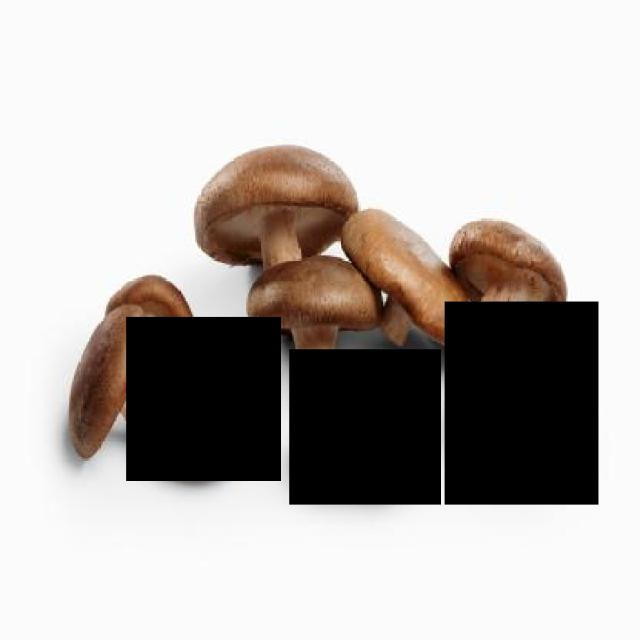Mushroom: (444, 301, 598, 505), (126, 318, 280, 480), (290, 349, 440, 505)
